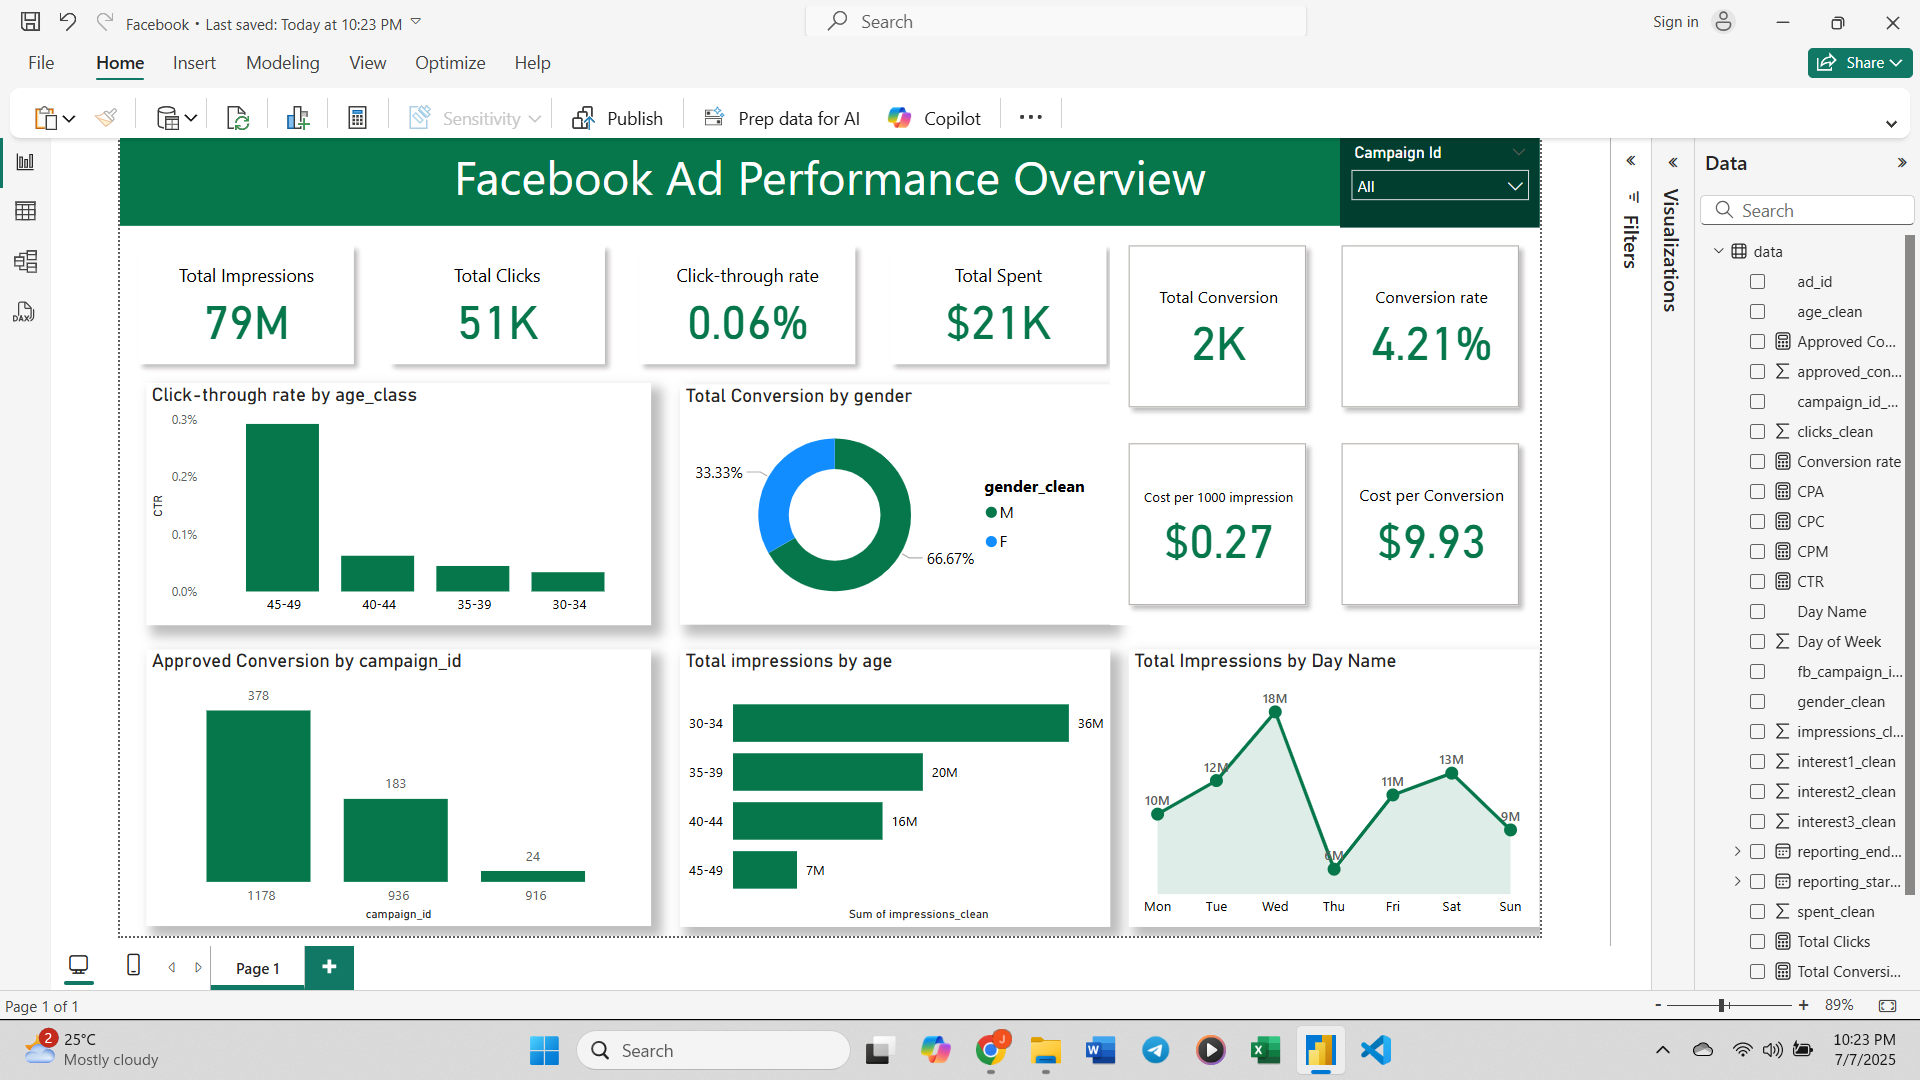

The dashboard page shown, as its layout file describes it:
{"tool":"powerbi","page":{"name":"Page 1","canvas":[1280,720],"ordinal":0},"visuals":[{"type":"textbox","box":[0,0,1280.3,79.6],"z":0},{"type":"cardVisual","fields":{"Data":["data.Total Impressions","data.Total Clicks","data.CTR","data.Total Spent"]},"box":[0,79.6,909.8,141.3],"z":1000},{"type":"columnChart","title":"Click-through rate by age_class","fields":{"Category":["data.age_clean"],"Y":["data.CTR"]},"box":[23.3,220.9,455.6,218.2],"z":2000},{"type":"donutChart","title":"Total Conversion by gender","fields":{"Category":["data.gender_clean"],"Y":["data.Total Conversion"]},"box":[505,222.3,388.3,216.8],"z":3000},{"type":"columnChart","fields":{"Category":["data.campaign_id_clean"],"Y":["data.Approved Conversion"]},"box":[23.3,461.1,455.6,249.7],"z":4000},{"type":"cardVisual","fields":{"Data":["data.Total Conversion","data.Conversion rate","data.CPM","data.CPA"]},"box":[893.2,79.6,386.9,359.5],"z":5000},{"type":"barChart","title":"Total impressions by age","fields":{"Y":["Sum(data.impressions_clean)"],"Category":["data.age_clean"]},"box":[505,461,388,250],"z":6000},{"type":"stackedAreaChart","fields":{"Category":["data.Day Name"],"Y":["data.Total Impressions"]},"box":[909.3,461.5,370.7,250],"z":7000},{"type":"slicer","title":"Campaign Id","fields":{"Values":["data.campaign_id_clean"]},"box":[1099.7,0,180.4,80.9],"z":7001}]}

Visuals, with their boxes on the page's 1280x720 design canvas (x1, y1, x2, y2). These are canvas units, not pixel positions in the 1920x1080 screenshot, which may show the page scaled, cropped or inside an application window:
textbox: {"left": 0, "top": 0, "right": 1280, "bottom": 80}
cardVisual - data.Total Impressions x data.Total Clicks: {"left": 0, "top": 80, "right": 910, "bottom": 221}
"Click-through rate by age_class" columnChart: {"left": 23, "top": 221, "right": 479, "bottom": 439}
"Total Conversion by gender" donutChart: {"left": 505, "top": 222, "right": 893, "bottom": 439}
columnChart - data.campaign_id_clean x data.Approved Conversion: {"left": 23, "top": 461, "right": 479, "bottom": 711}
cardVisual - data.Total Conversion x data.Conversion rate: {"left": 893, "top": 80, "right": 1280, "bottom": 439}
"Total impressions by age" barChart: {"left": 505, "top": 461, "right": 893, "bottom": 711}
stackedAreaChart - data.Day Name x data.Total Impressions: {"left": 909, "top": 462, "right": 1280, "bottom": 712}
"Campaign Id" slicer: {"left": 1100, "top": 0, "right": 1280, "bottom": 81}
